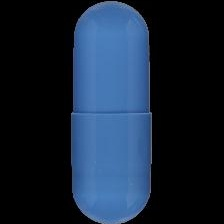52959-517: (0, 0, 224, 224)
